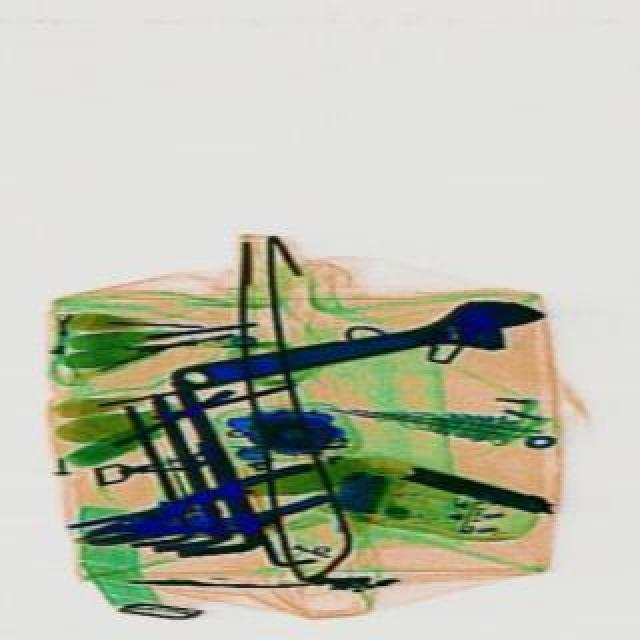scissors: (162, 284, 548, 408)
wrench: (76, 480, 256, 556)
